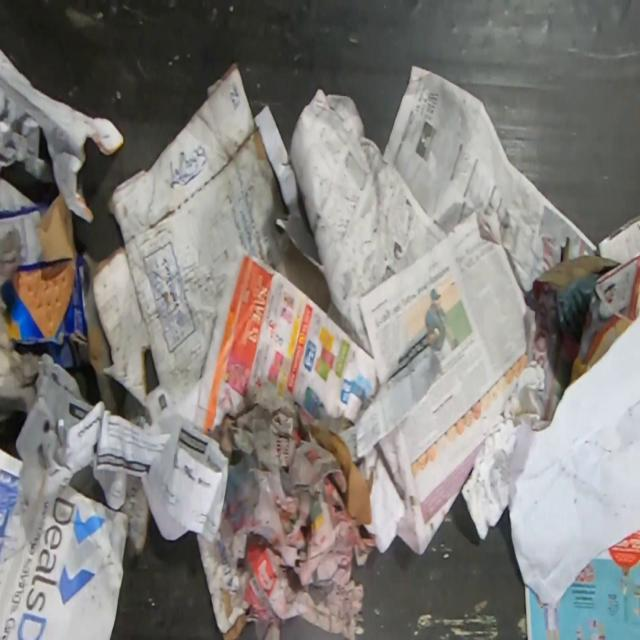cardboard: (90, 60, 330, 407), (0, 191, 90, 369)
